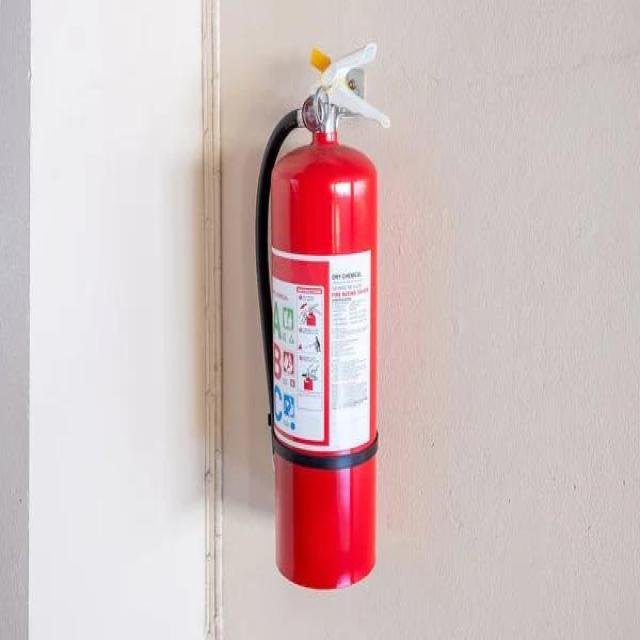fire_extinguisher: (252, 38, 391, 592)
